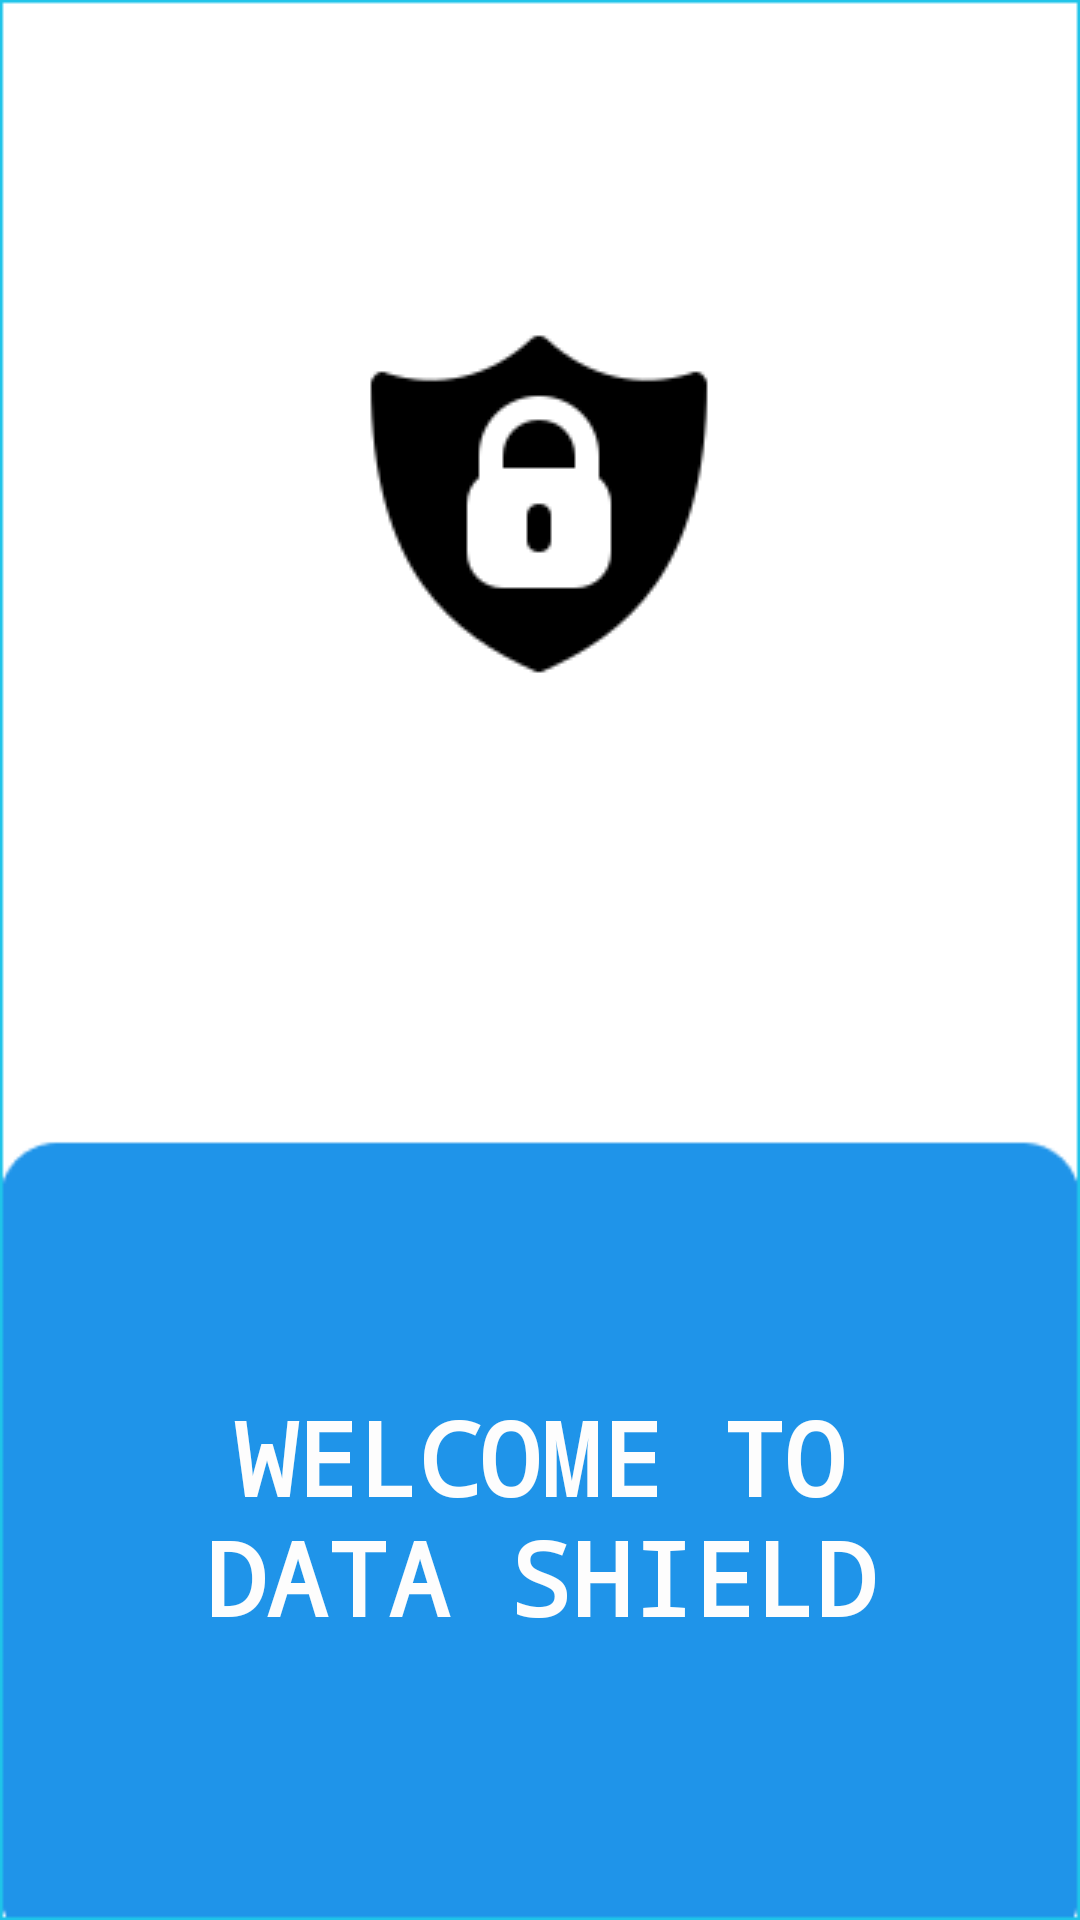

Named icons in this screenshot (1080*1920) and their centers, point (x, y):
padlock: point (539, 504)
